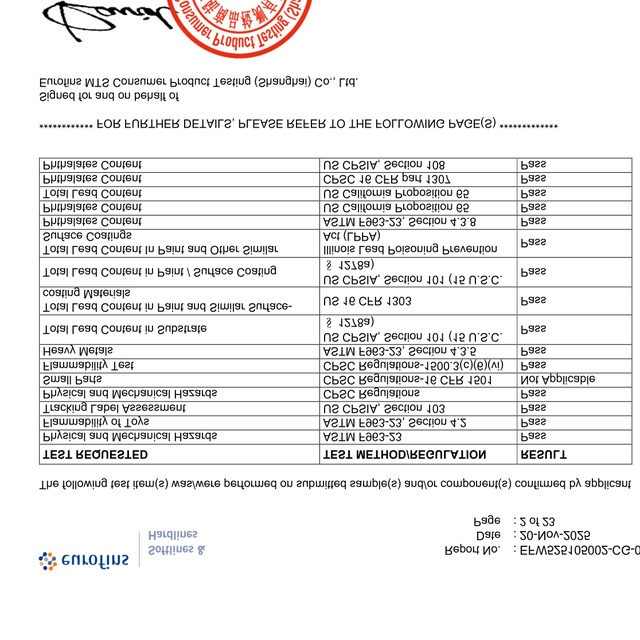eurofins: (32, 547, 129, 577)
